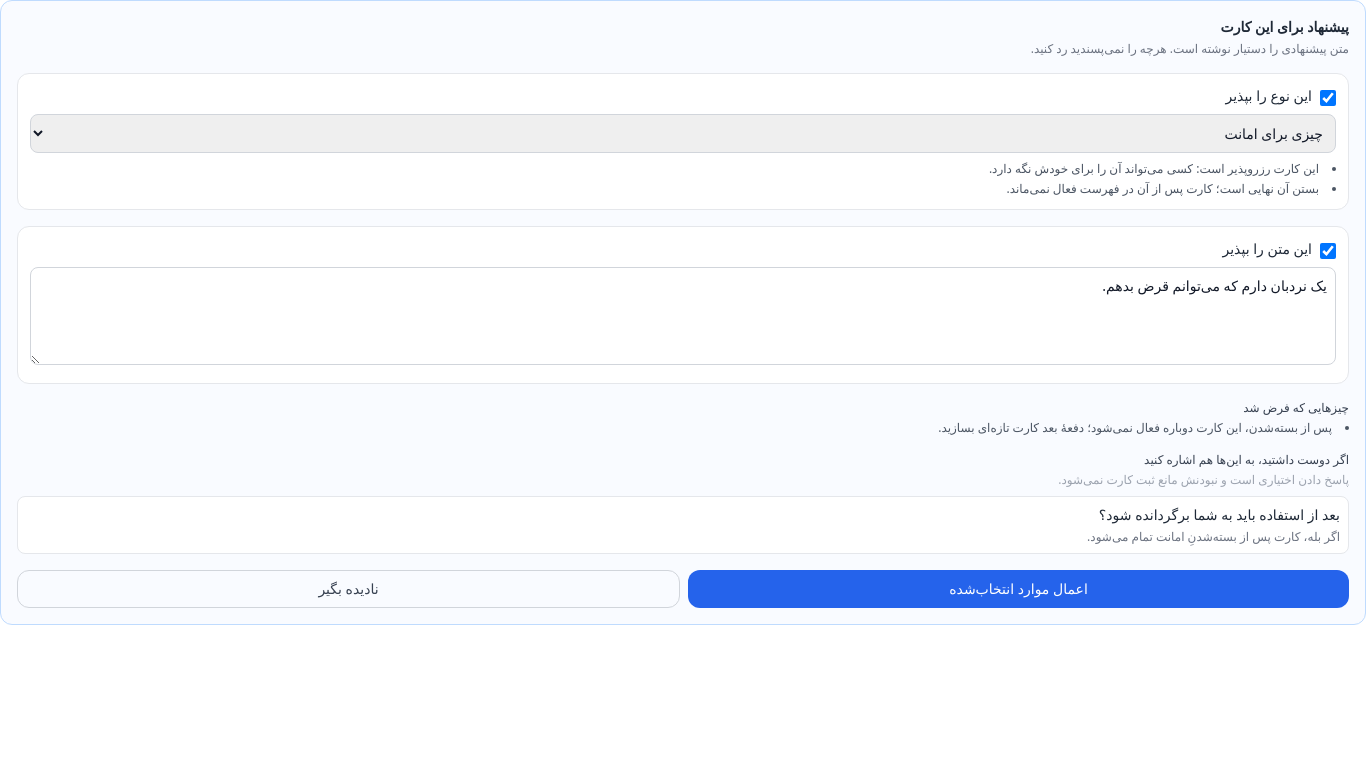
it: the kind can be corrected, not only taken or left › shows the behaviour of the kind currently selected, not the one suggested
The width and height of the screenshot is (1366, 768).
Check: the list item "بستن آن نهایی است؛ کارت پس از آن در فهرست فعال نمی‌ماند." is shown, box x1=1006 y1=180 x2=1319 y2=197
PARTICIPATION is not reservable, so there is nothing to close.
Select "دعوت به مشارکت" in the dropdown named "نوع کارت" at (683, 134), box x1=30 y1=114 x2=1336 y2=153
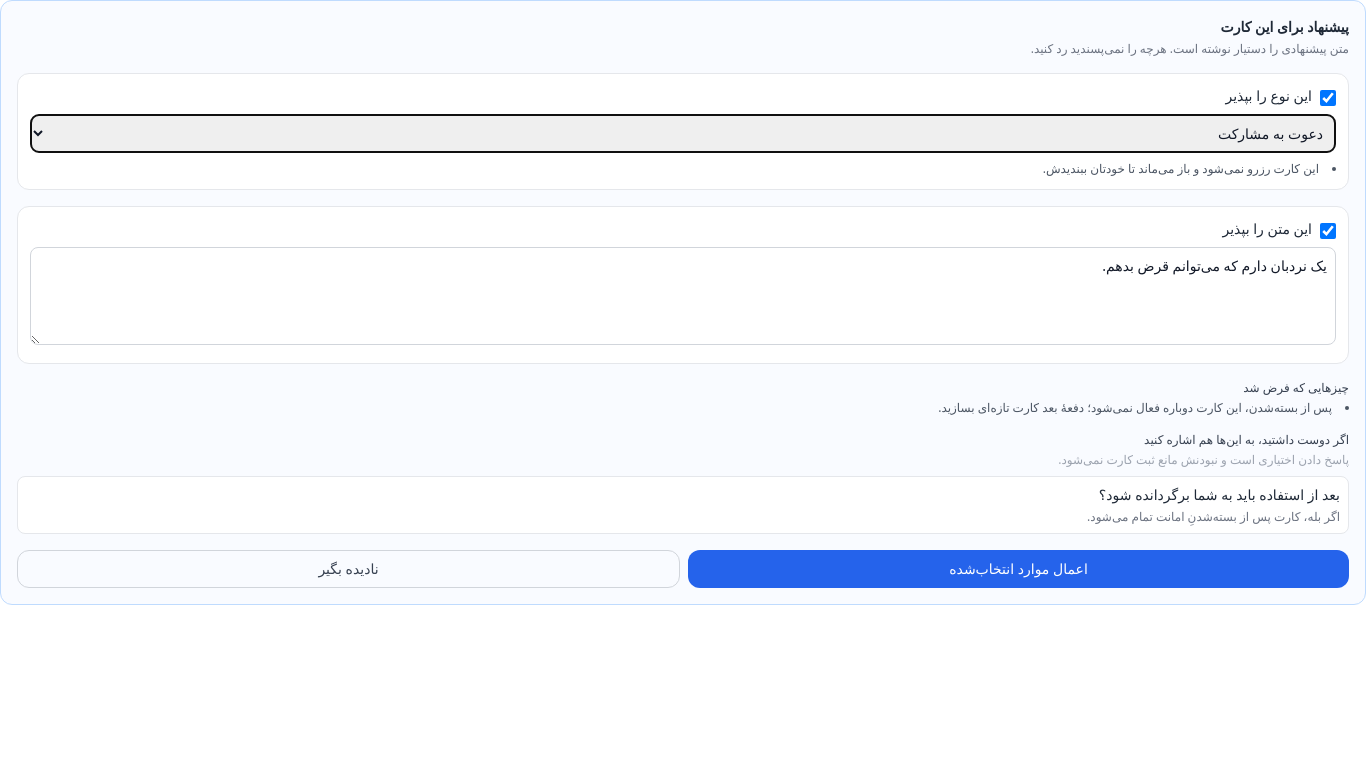
Check: the list item "این کارت رزرو نمی‌شود و باز می‌ماند تا خودتان ببندیدش." is shown, box x1=1043 y1=160 x2=1319 y2=177
Check: the list item "بستن آن نهایی است" is gone
